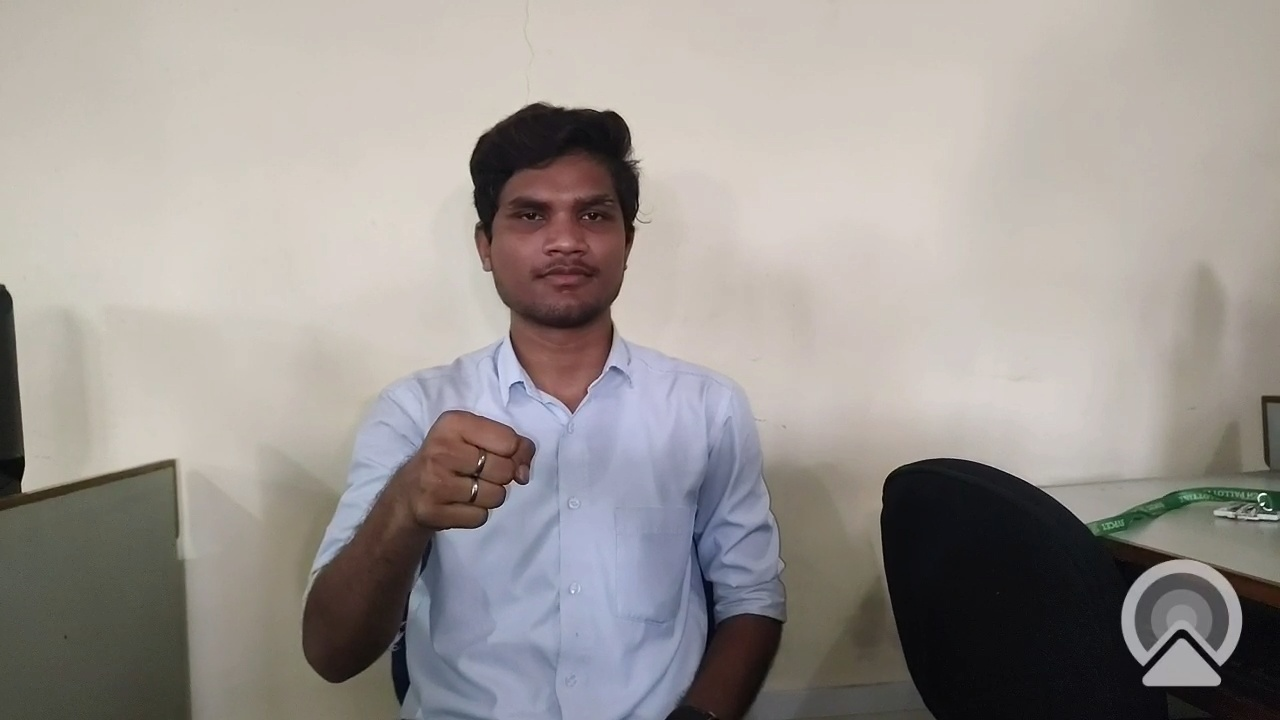Yes: (362, 378, 556, 589)
